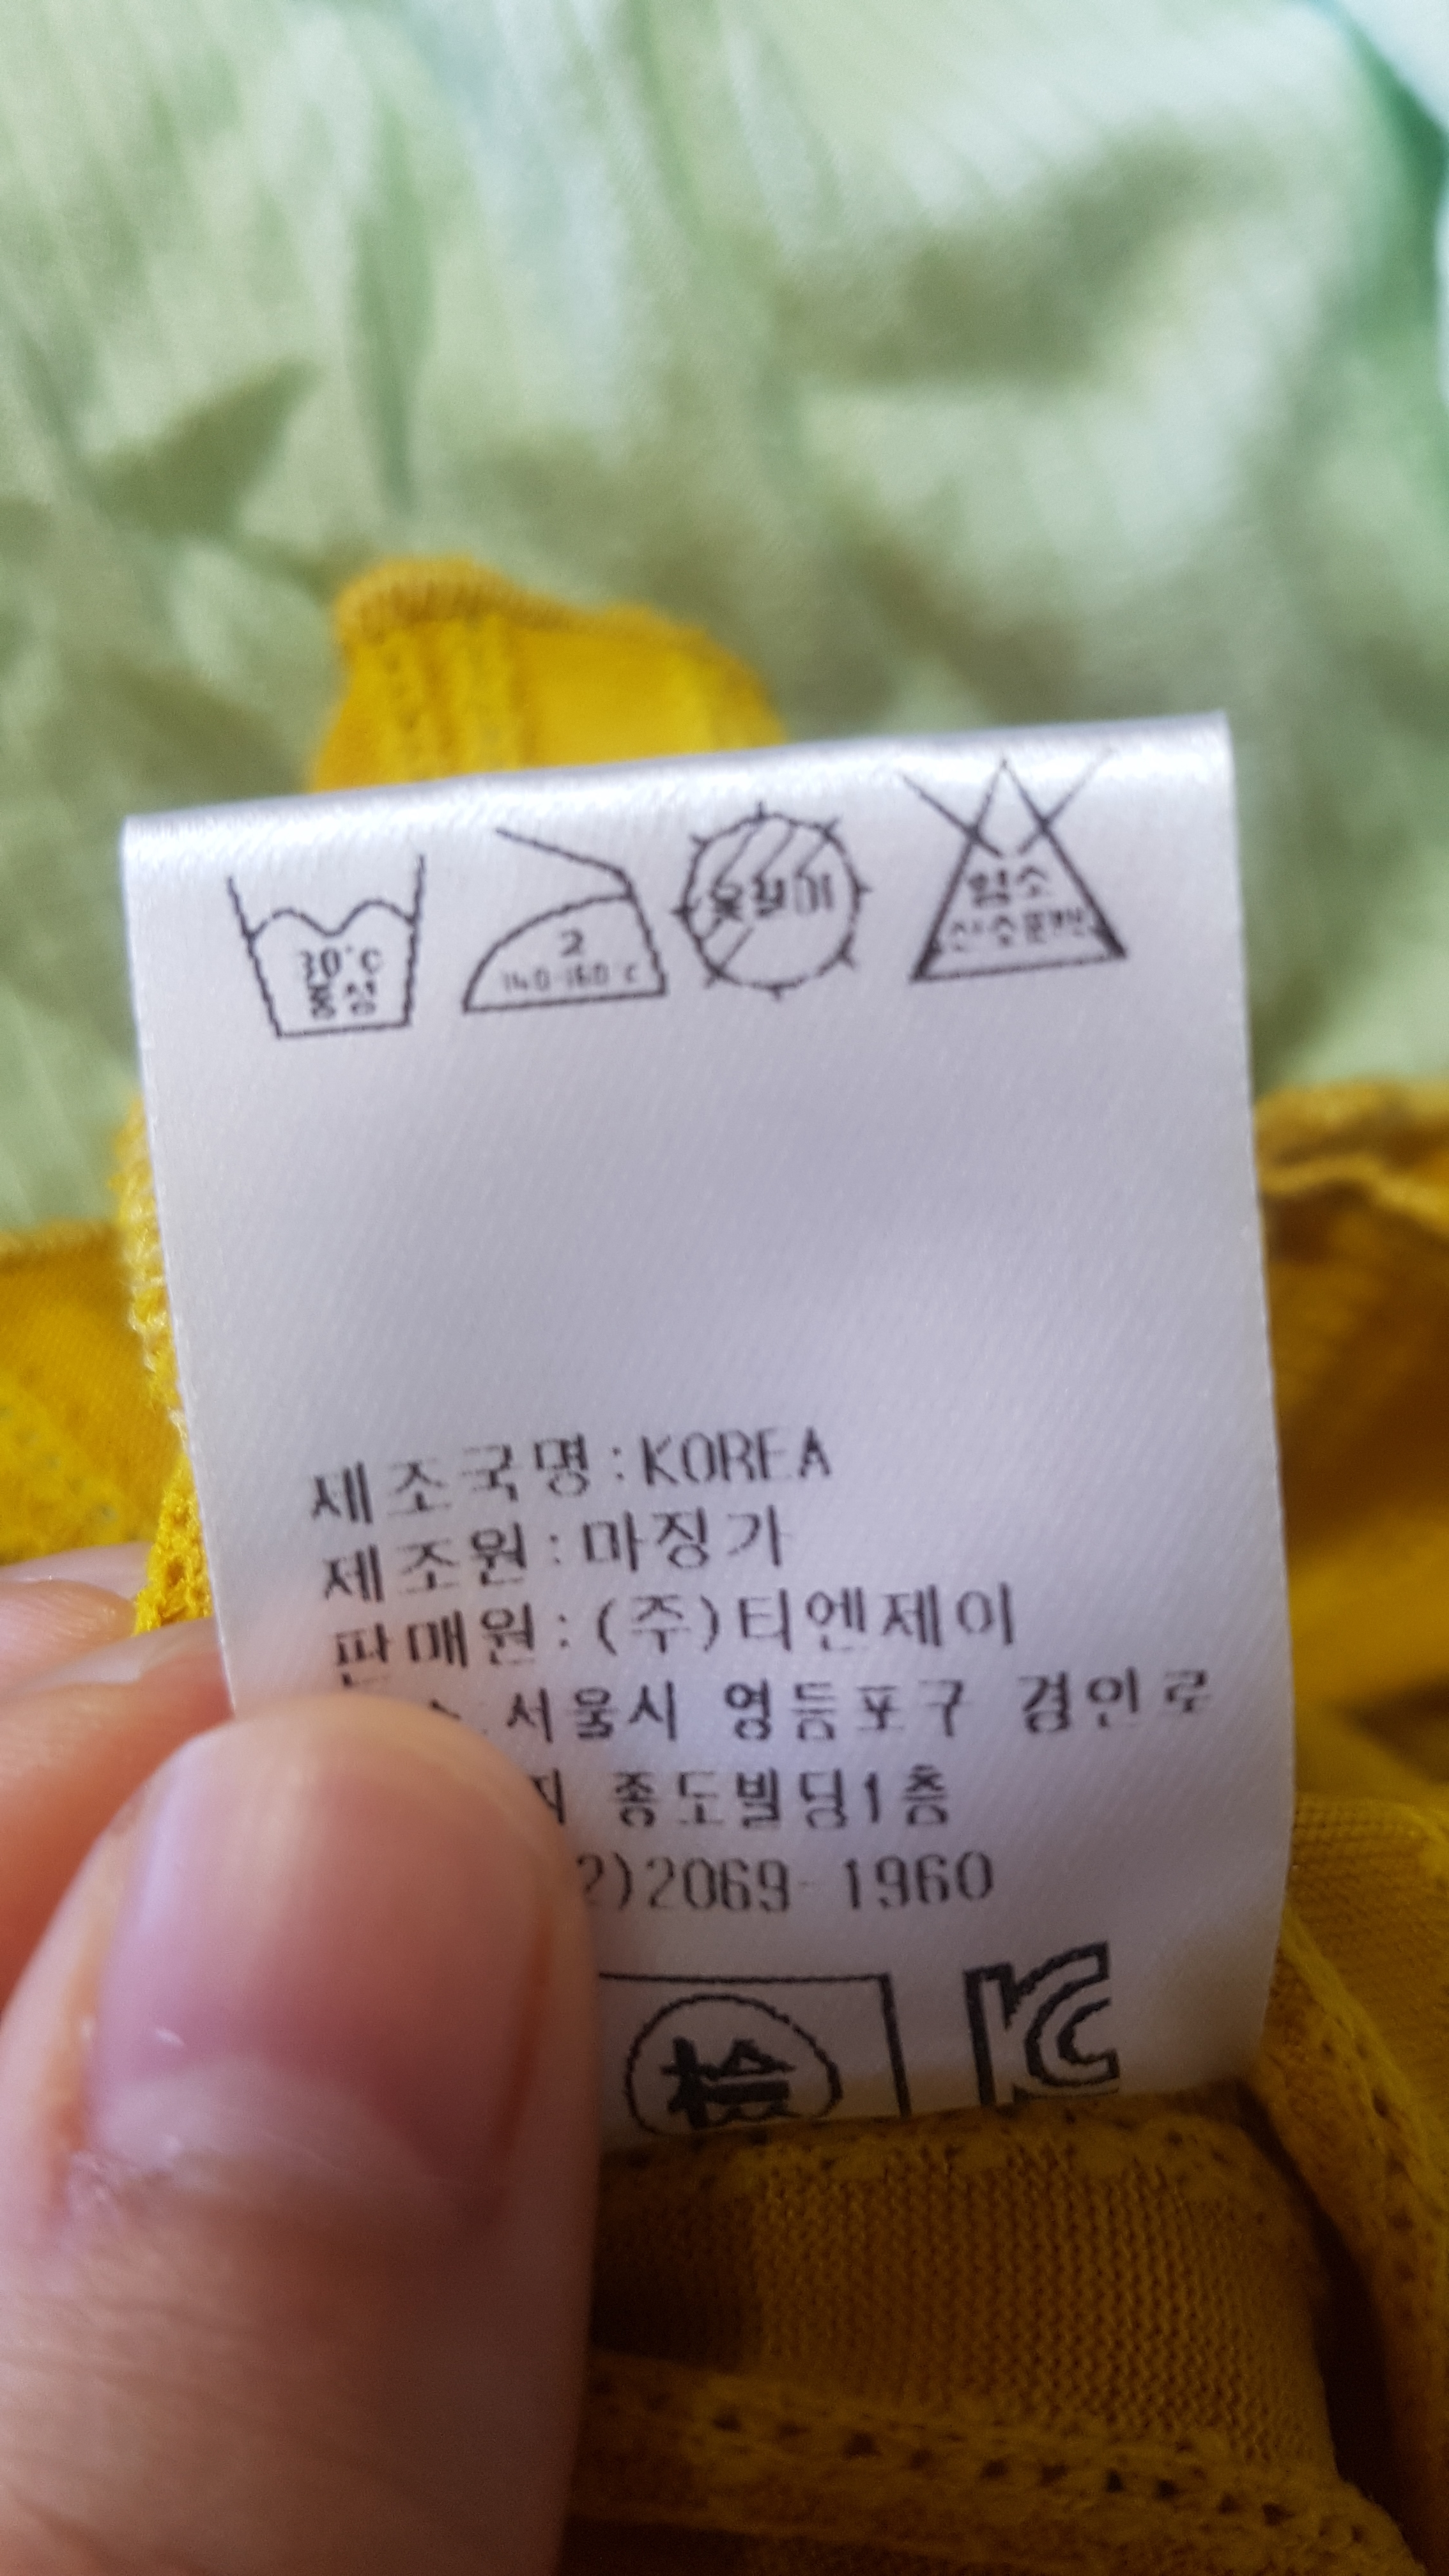do_not_bleach: (895, 755, 1168, 982)
